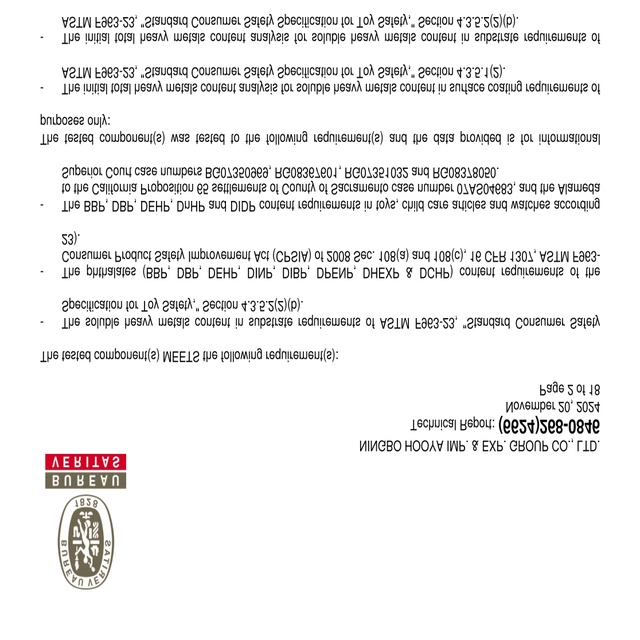bureau_veritas: (39, 450, 128, 599)
